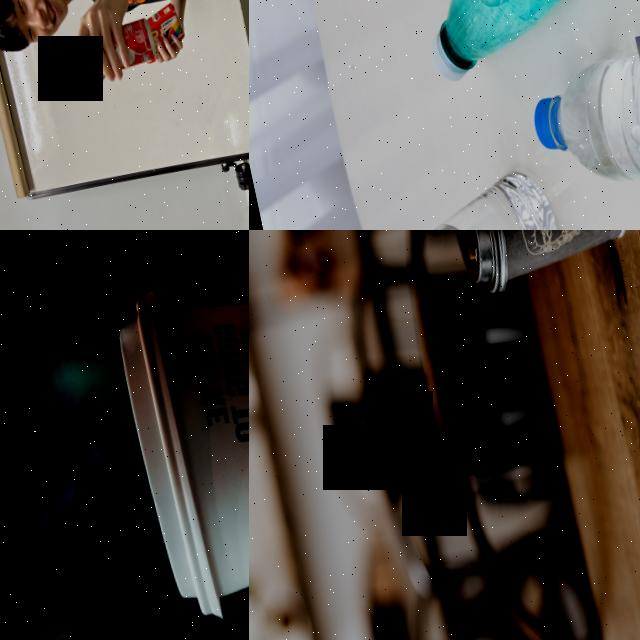bottle: (519, 13, 640, 229), (386, 0, 640, 83)
can: (62, 14, 161, 86)
cup: (105, 233, 249, 623), (432, 230, 640, 295)
